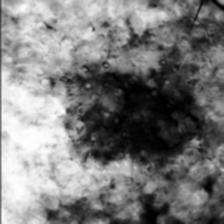Potentially Malignant Skin Tumors: (63, 62, 209, 164)
